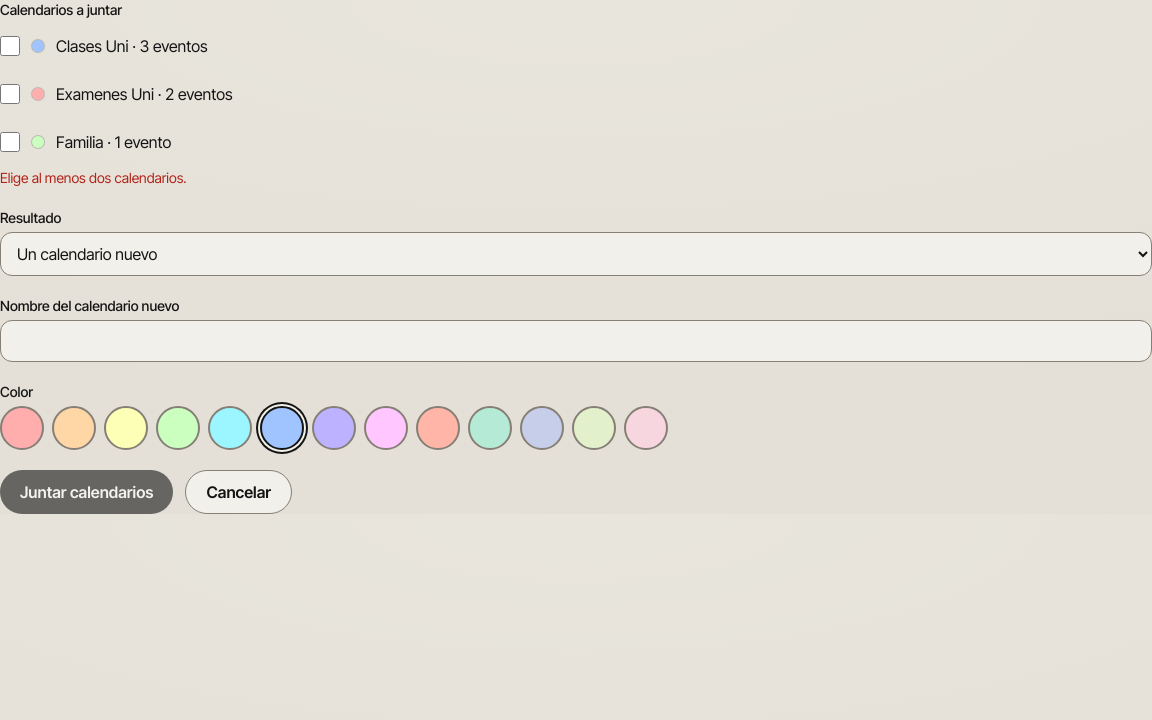
Test: MergeForm (RF-49..RF-52) › only counts the events of the calendars that disappear when merging into an existing one (RF-52)
Click the checkbox labelled "Clases Uni · 3 eventos". click: (10, 46)
box: [0, 36, 20, 56]
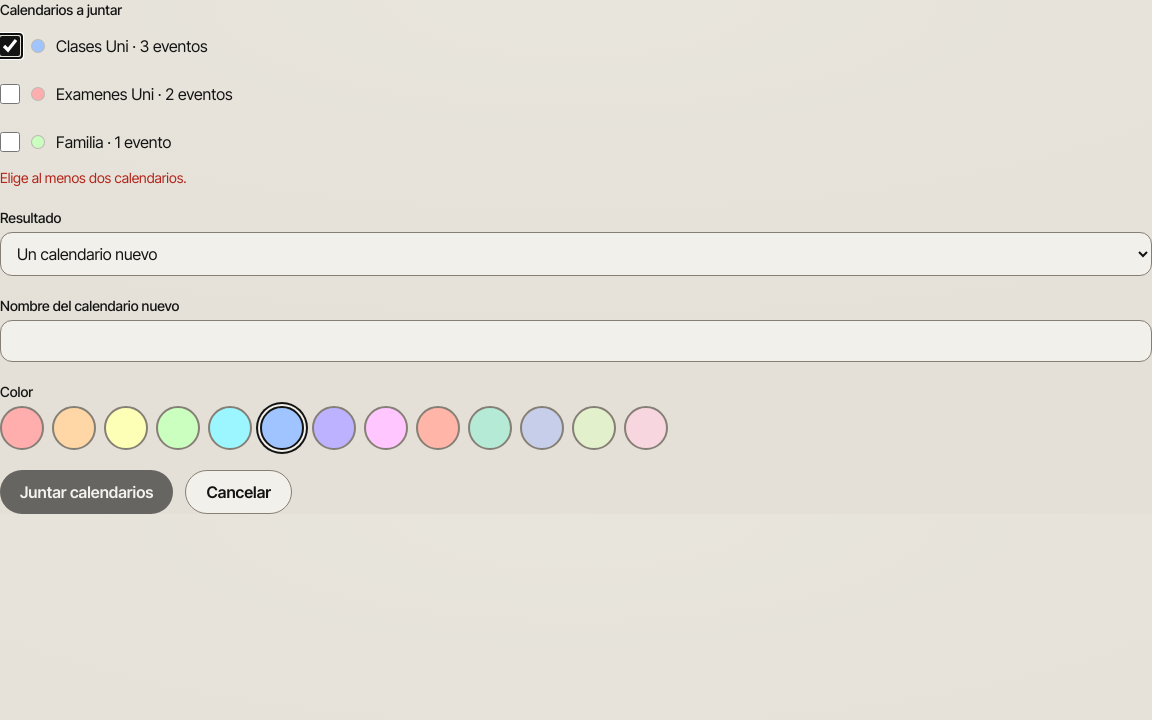
Click the checkbox labelled "Examenes Uni · 2 eventos". click: (10, 94)
box: [0, 84, 20, 104]
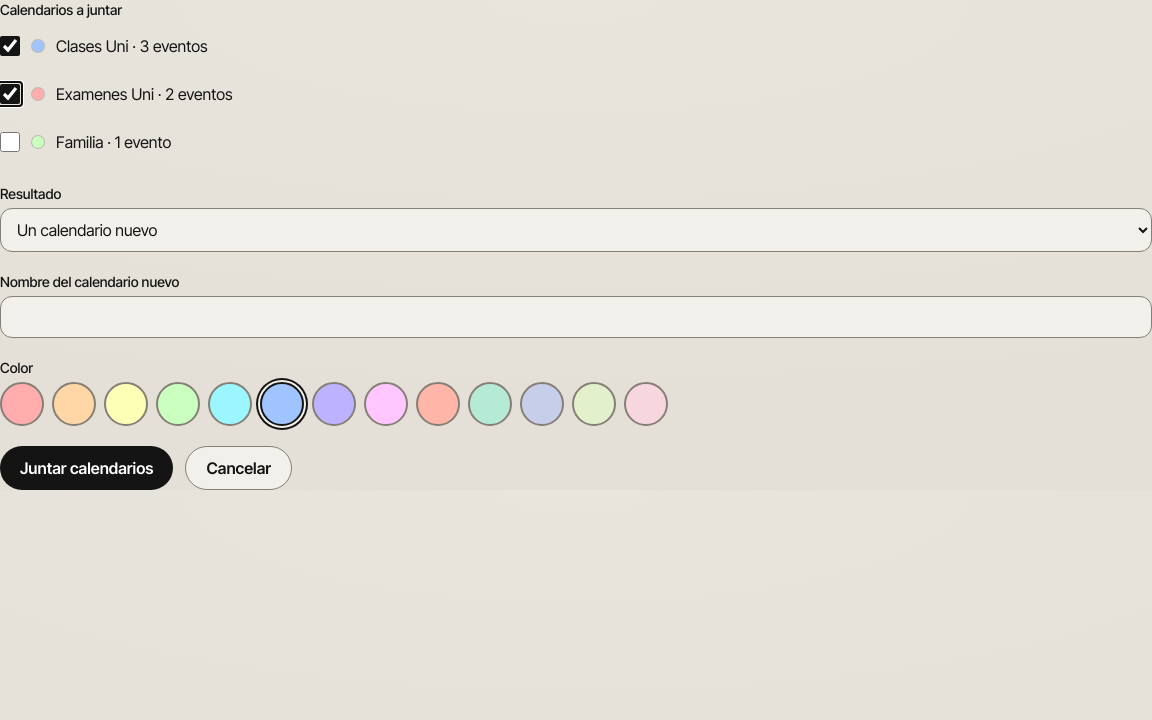
Select "Clases Uni" in the dropdown labelled "Resultado". click: (576, 230)
box: [0, 208, 1151, 252]
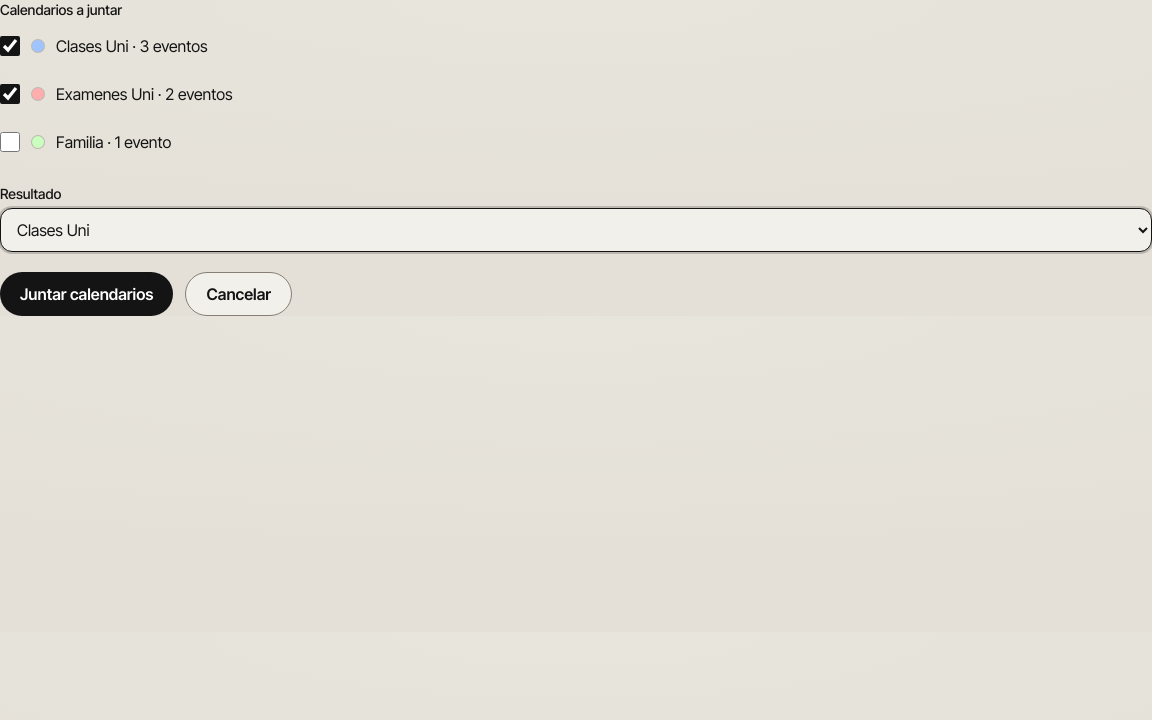
Click the button "Juntar calendarios". click: (87, 294)
box: [0, 272, 174, 316]
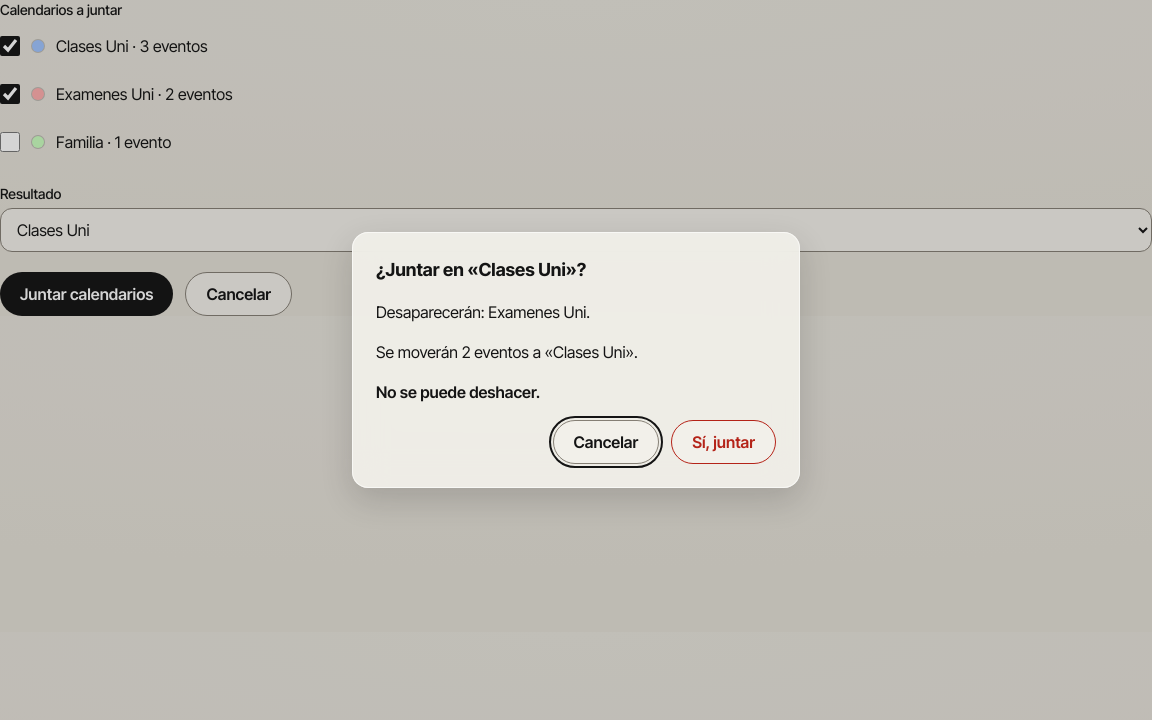
Expected: the dialog does not show "Desaparecerán: Clases Uni", [352, 232, 800, 488]
Expected: the dialog shows "Desaparecerán: Examenes Uni", [352, 232, 800, 488]
Expected: the dialog shows "Se moverán 2 eventos", [376, 342, 638, 362]
